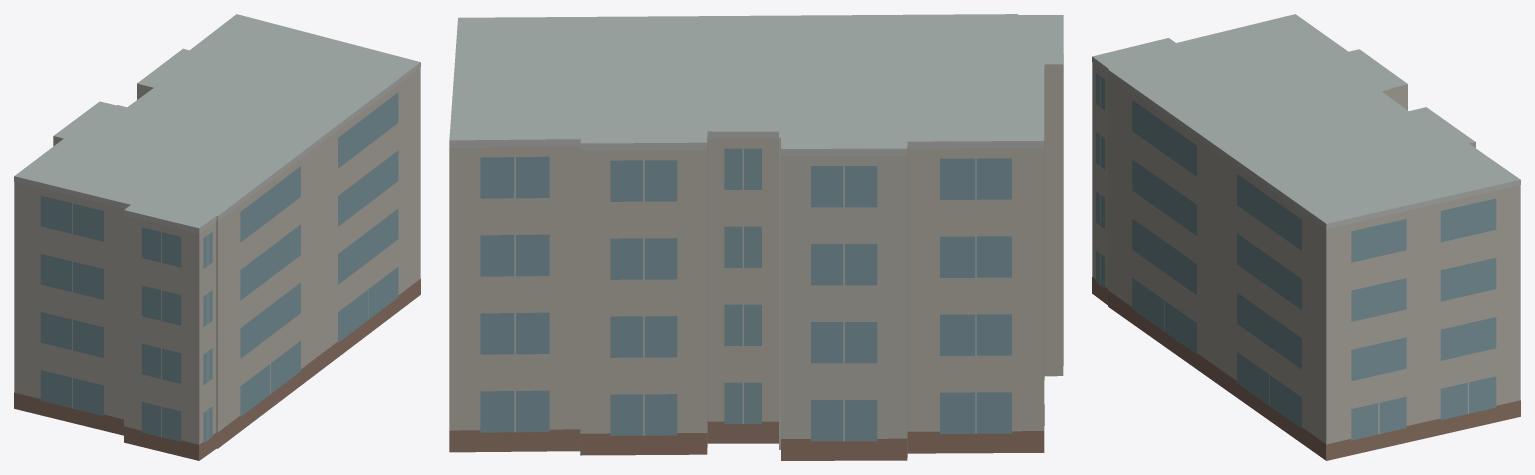
Rendered from survey-upis-32671798.glb.
3 views of the same model, side by side, from view 1: azimuth 30°, elevation 25°; view 2: azimuth 150°, elevation 25°; view 3: azimuth 270°, elevation 25° (orthographic). The views are drawn at different scales.
Visible parts, largest first — view 1: survey-upis-32671798.tmp; view 2: survey-upis-32671798.tmp; view 3: survey-upis-32671798.tmp.
Part boxes in pixels (bbox=[...]): survey-upis-32671798.tmp: bbox=[14, 14, 420, 460]; survey-upis-32671798.tmp: bbox=[449, 14, 1063, 460]; survey-upis-32671798.tmp: bbox=[1092, 14, 1520, 460].
Bounding box in the file's own units: 20.13 × 10.6 × 17.38.
